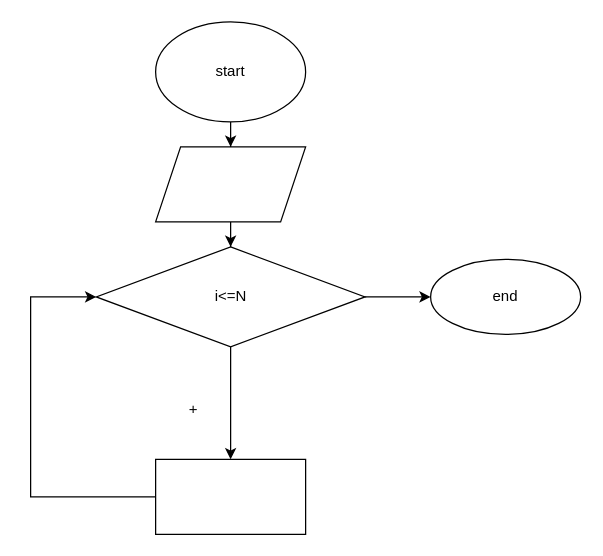
Some shapes in this 603 by 556 pixel diagram are drawn without their labels. Here are the shapes that lost their labels. From the top down, the centre of each, then its label:
At pixel 230 184: "N i=1".
At pixel 230 496: "i^3 i++".
